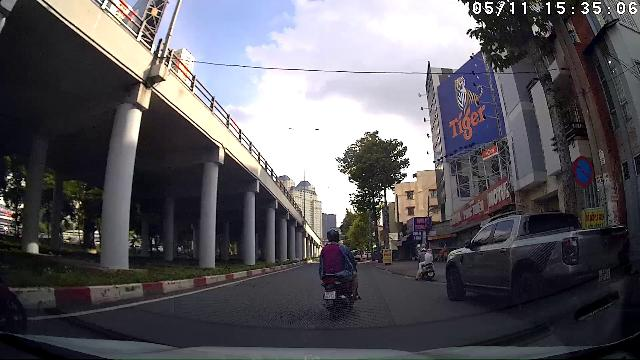131a-cam-do-xe: (571, 154, 595, 189)
